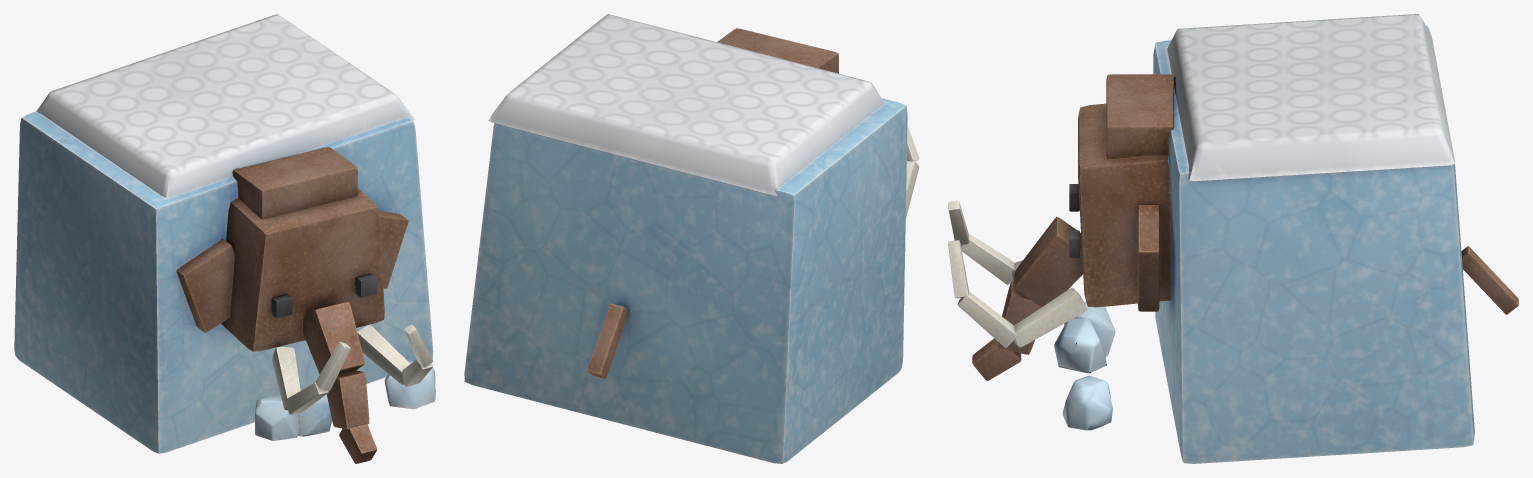
The model's file is Glace_BlocMammouth.fbx.
The picture shows the model from 3 angles, left to right: view 1: azimuth 30°, elevation 25°; view 2: azimuth 150°, elevation 25°; view 3: azimuth 270°, elevation 25°; orthographic projection. The views are drawn at different scales.
Visible parts, largest first — view 1: Glace_BlocMammouth; view 2: Glace_BlocMammouth; view 3: Glace_BlocMammouth.
Part boxes in pixels (left/top/right/bottom): Glace_BlocMammouth: left=14, top=14, right=435, bottom=463; Glace_BlocMammouth: left=464, top=14, right=919, bottom=463; Glace_BlocMammouth: left=948, top=14, right=1518, bottom=463.
Size of the model in its own units: 948 by 860 by 1348.
Materials: 1 (1 with a texture image).
